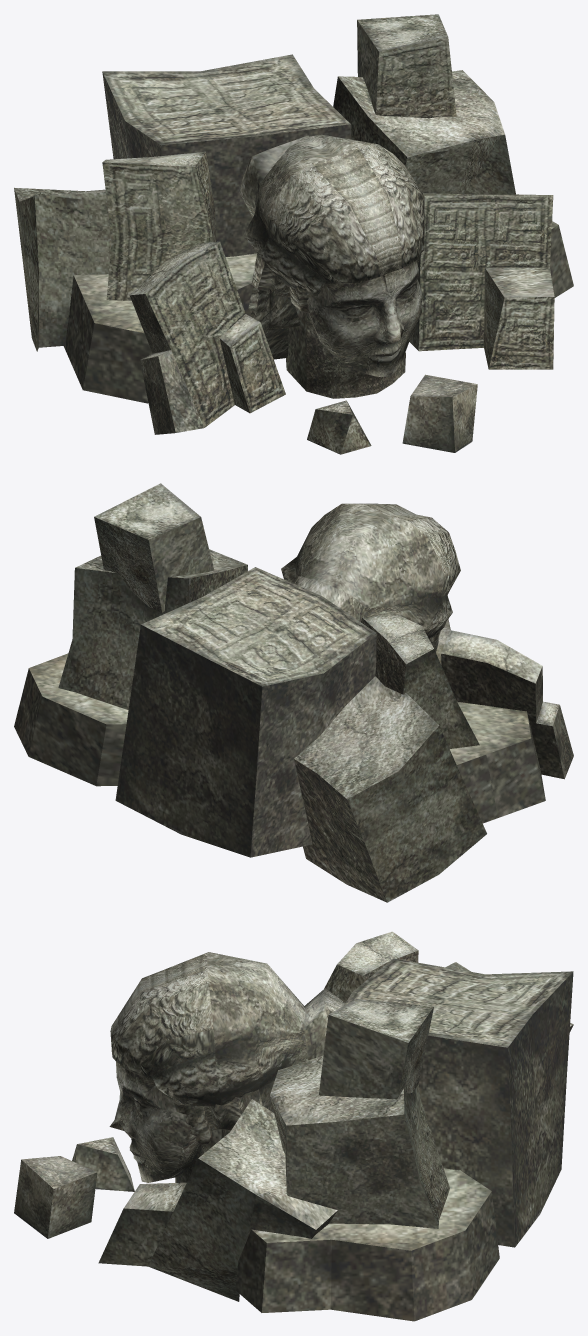
The model's file is ob-bigstatue01.fbx.
3 views of the same model, one above another, from view 1: azimuth 30°, elevation 25°; view 2: azimuth 150°, elevation 25°; view 3: azimuth 270°, elevation 25° (orthographic). The views are drawn at different scales.
Visible parts, largest first — view 1: ob-bigstatue01-01, ob-bigstatue01-02; view 2: ob-bigstatue01-01, ob-bigstatue01-02; view 3: ob-bigstatue01-01, ob-bigstatue01-02.
Part boxes in pixels (x1,y1,x2,y2): ob-bigstatue01-01: [14, 14, 554, 454]; ob-bigstatue01-02: [63, 37, 573, 427]; ob-bigstatue01-01: [58, 483, 573, 902]; ob-bigstatue01-02: [14, 567, 545, 857]; ob-bigstatue01-01: [14, 931, 573, 1301]; ob-bigstatue01-02: [235, 958, 573, 1321].
Bounding box in the file's own units: 11.2 × 6.4 × 10.85.
